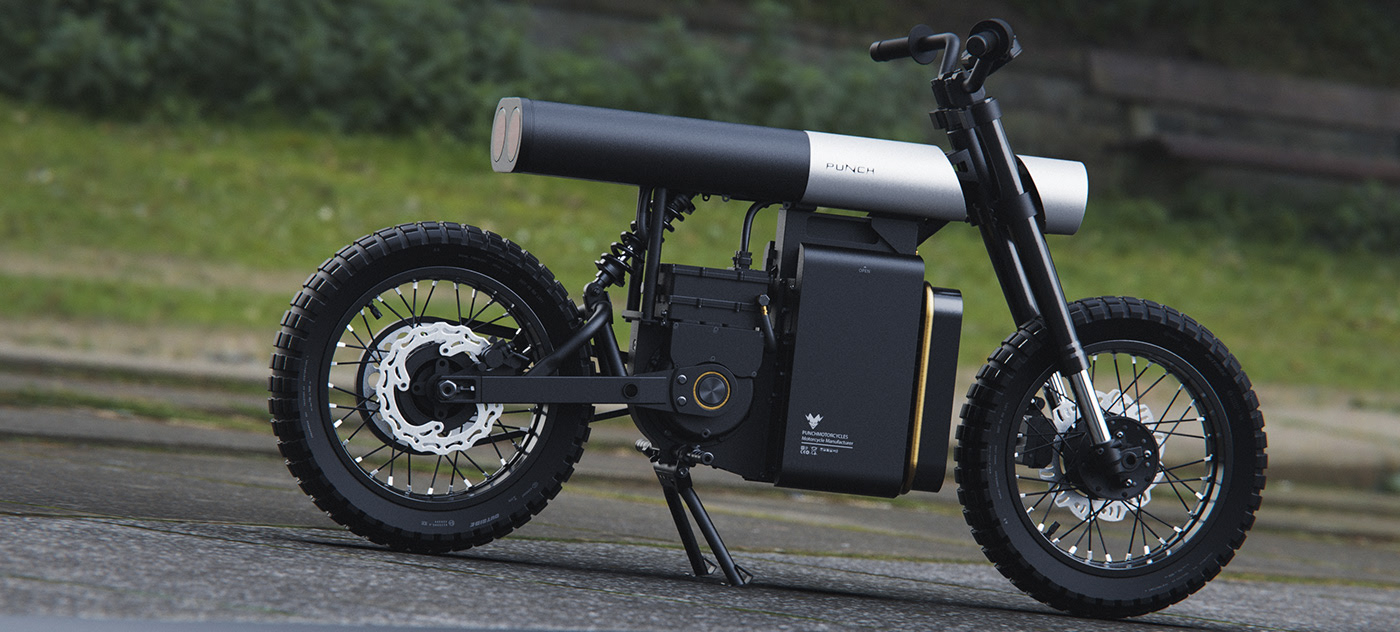MNV: (274, 30, 1273, 617)
